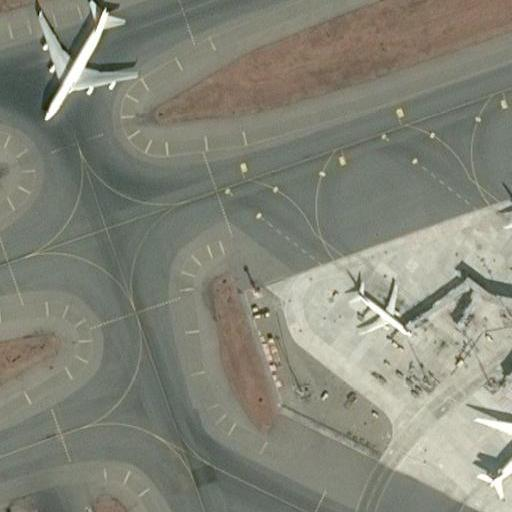Aircraft: (16, 0, 150, 124), (458, 382, 512, 501), (335, 272, 414, 348), (492, 180, 512, 295)
